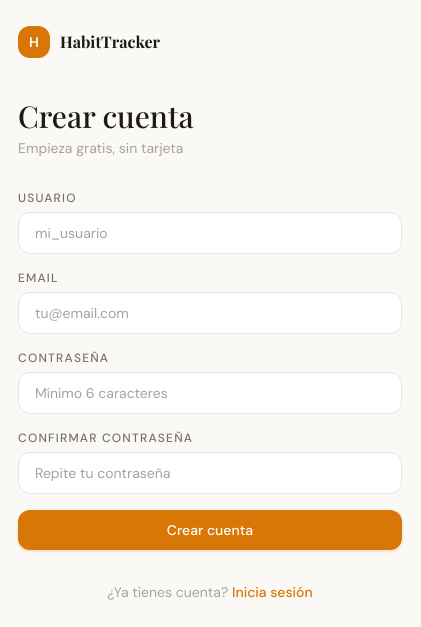
Test case: RegisterPage — validaciones › muestra error con email inválido
Type "usuario" into the field with placeholder "mi_usuario" at (210, 233), box [18,212,402,254]
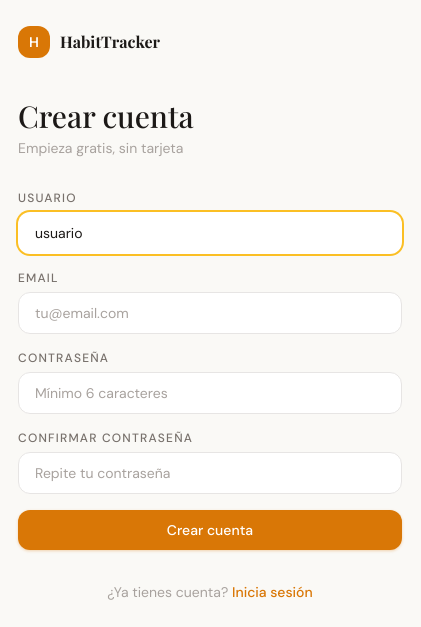
Type "no-es-email" into the field with placeholder "tu@email.com" at (210, 313), box [18,292,402,334]
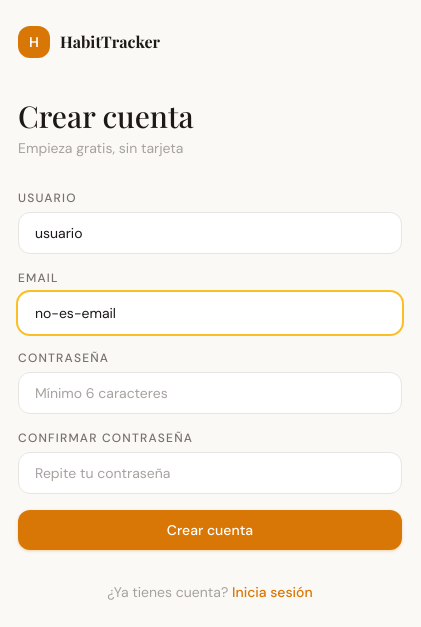
Type "pass123" into the password field with placeholder "Mínimo 6 caracteres" at (210, 393), box [18,372,402,414]
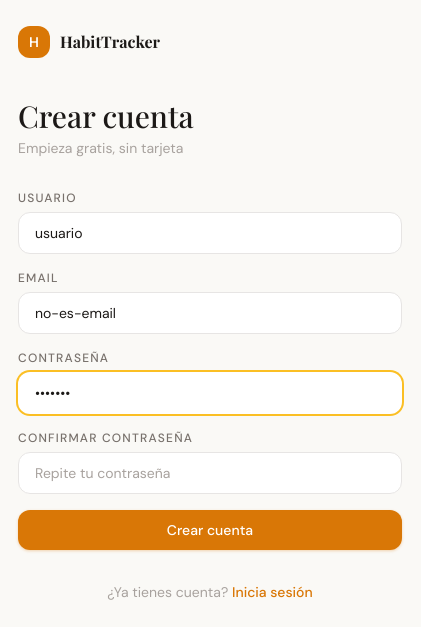
Type "pass123" into the password field with placeholder "Repite tu contraseña" at (210, 473), box [18,452,402,494]
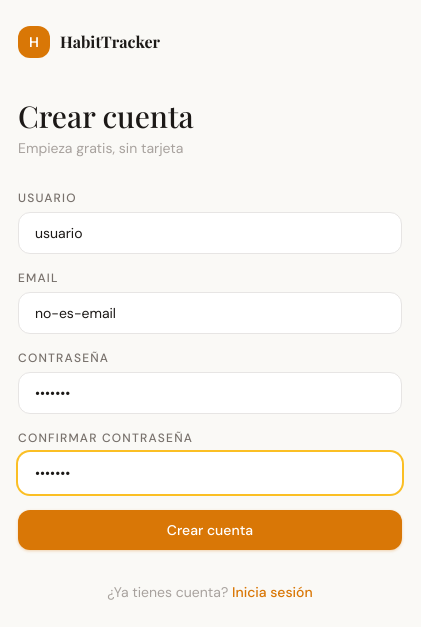
Click the button "Crear cuenta" at (210, 530), box [18,510,402,550]
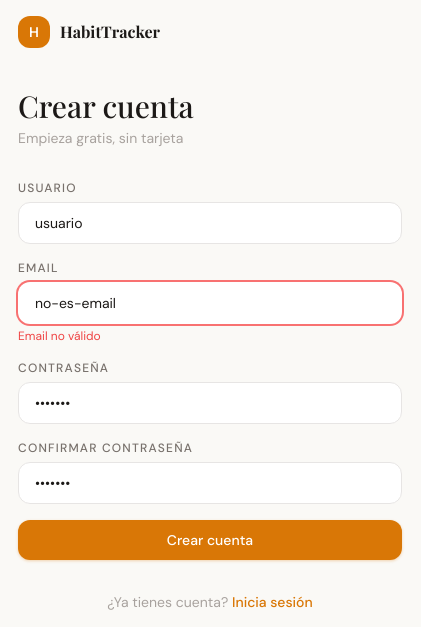
expect the text "Email no válido" is shown: met, box [18,328,101,344]
